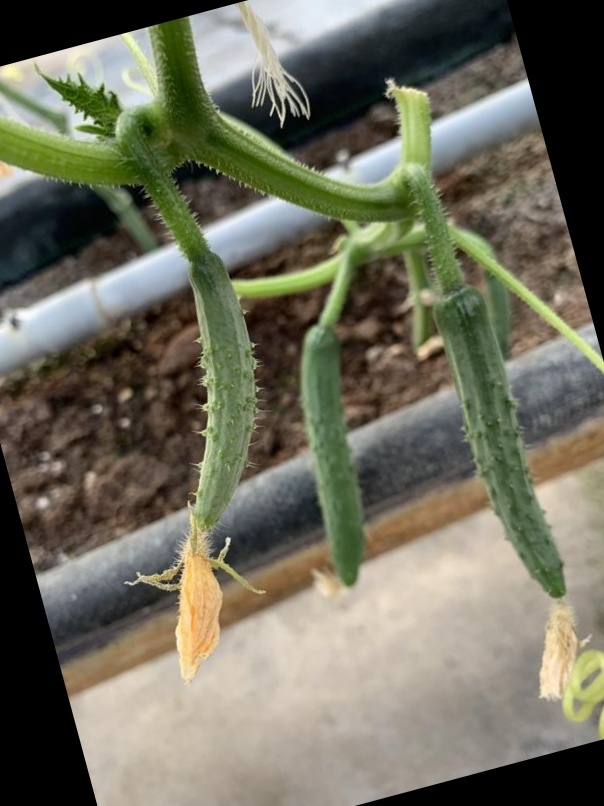bear: (135, 241, 287, 689)
growth: (429, 282, 576, 615)
mature: (289, 319, 375, 608)
